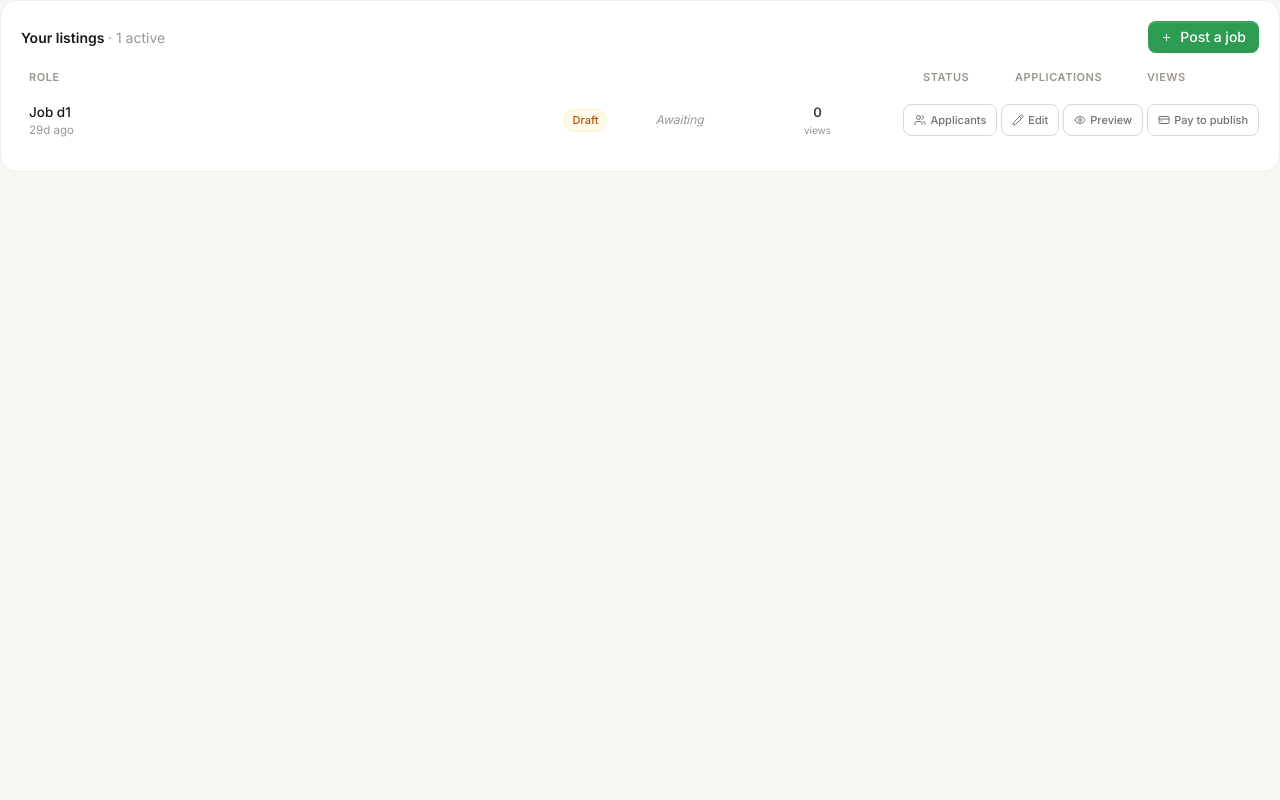
ListingsPanel actions › goes straight to checkout when the plan is unchanged
The width and height of the screenshot is (1280, 800).
Click the button named "Pay to publish Job d1".
click(1203, 120)  # box x1=1147 y1=104 x2=1259 y2=136
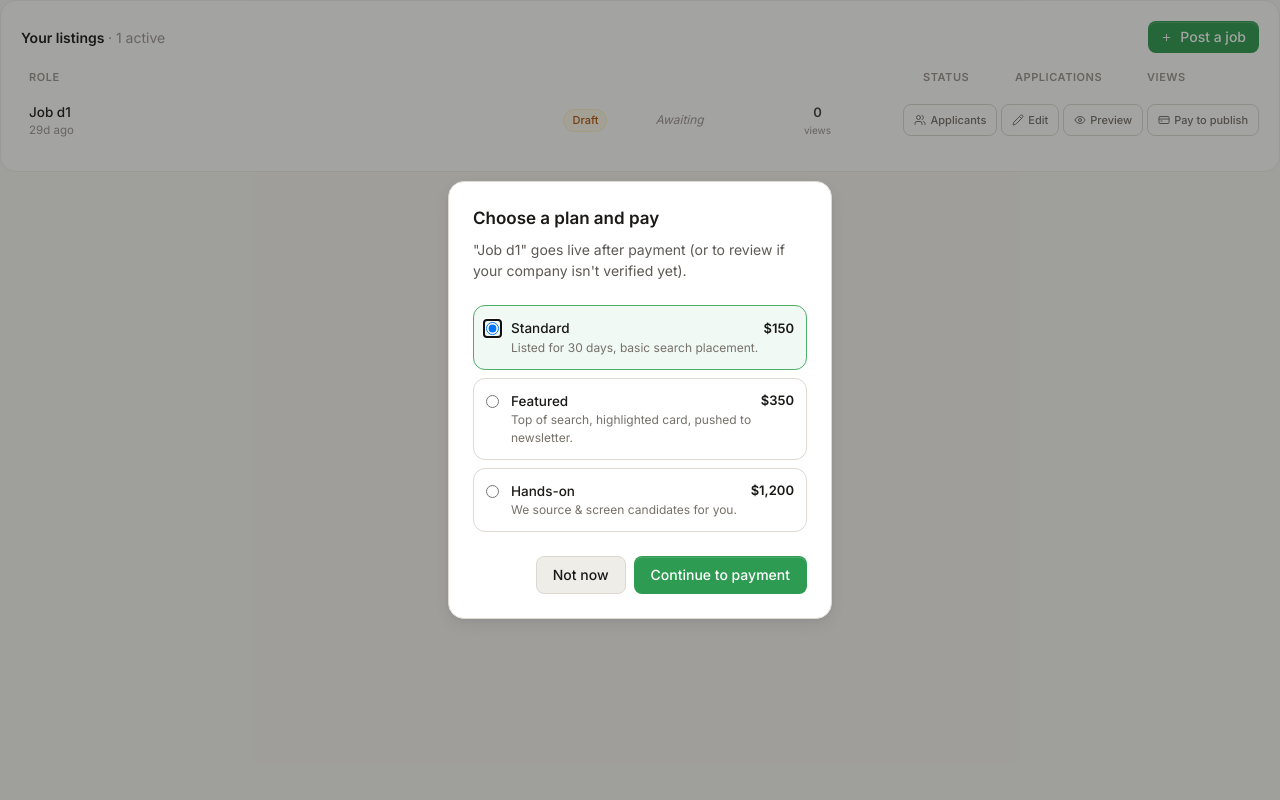
Click the button "Continue to payment".
click(720, 575)  # box x1=634 y1=556 x2=807 y2=594
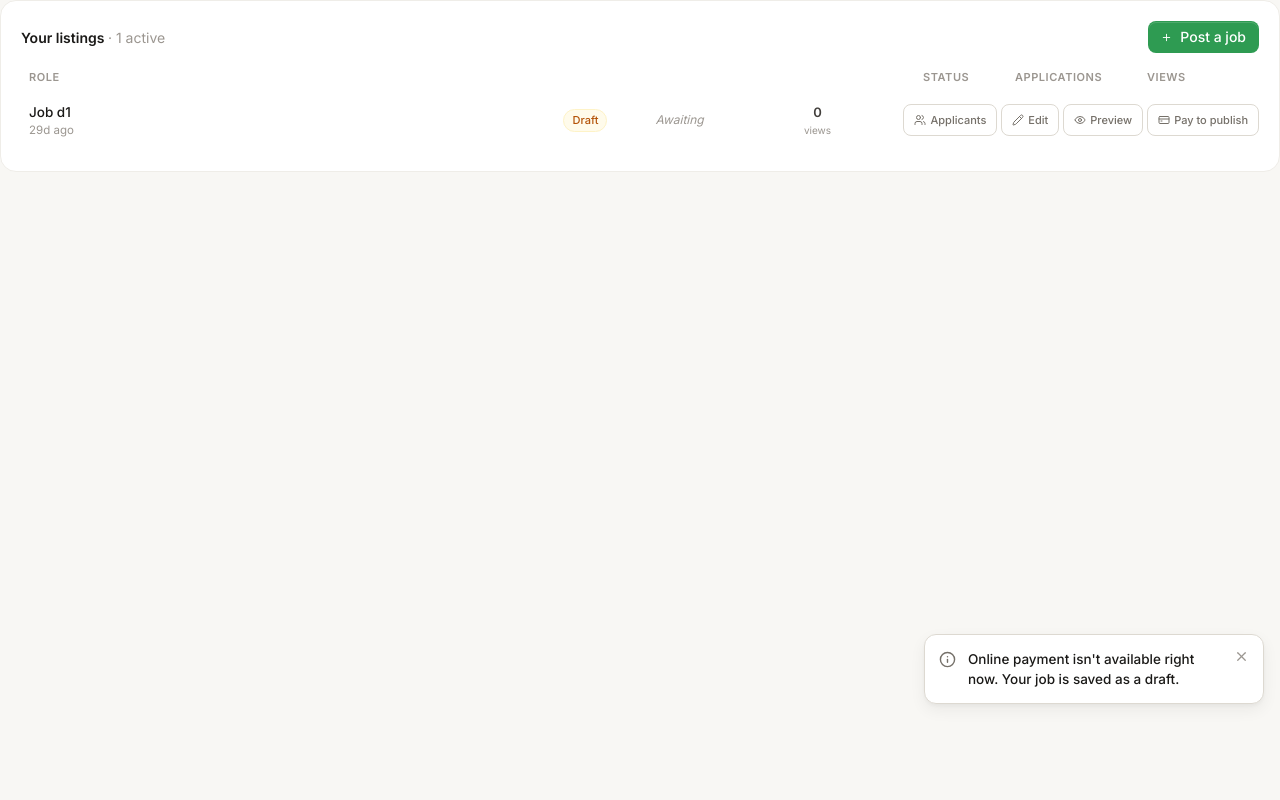
Expected: the text "Online payment isn't available right now" is shown, x1=968 y1=650 x2=1194 y2=687
